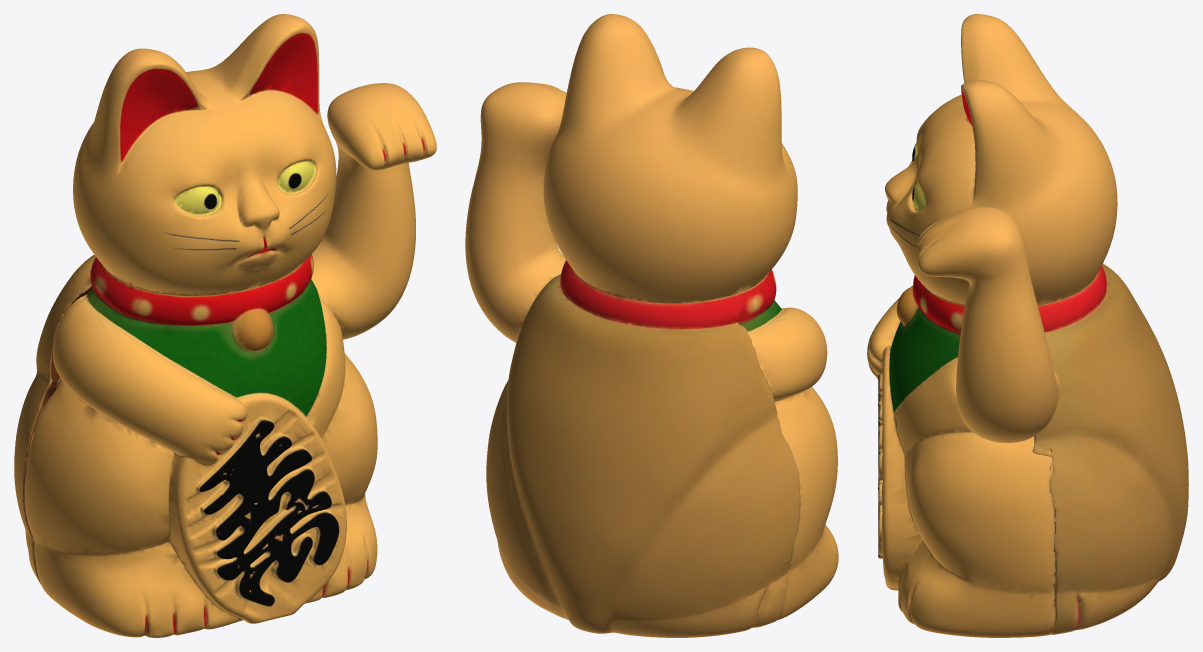
The model's file is cat.glb.
The picture shows the model from 3 angles, left to right: view 1: azimuth 30°, elevation 25°; view 2: azimuth 150°, elevation 25°; view 3: azimuth 270°, elevation 25°; orthographic projection. The views are drawn at different scales.
Visible parts, largest first — view 1: mesh_node; view 2: mesh_node; view 3: mesh_node.
Boxes of the visible parts, left/top/right/bottom form: mesh_node: left=14, top=14, right=436, bottom=637; mesh_node: left=465, top=14, right=838, bottom=637; mesh_node: left=867, top=14, right=1188, bottom=637.
Size of the model in its own units: 1.32 by 1.9 by 1.06.
1 material, 1 textured.
